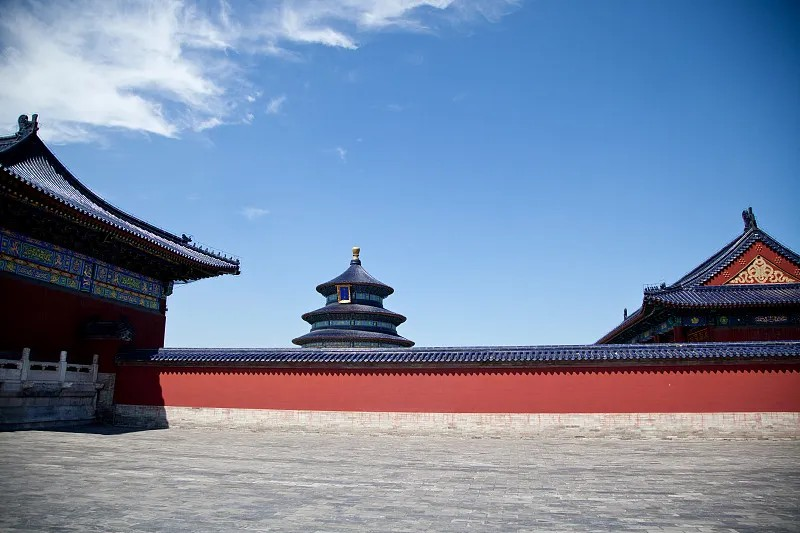Heaven: (292, 245, 414, 349)
